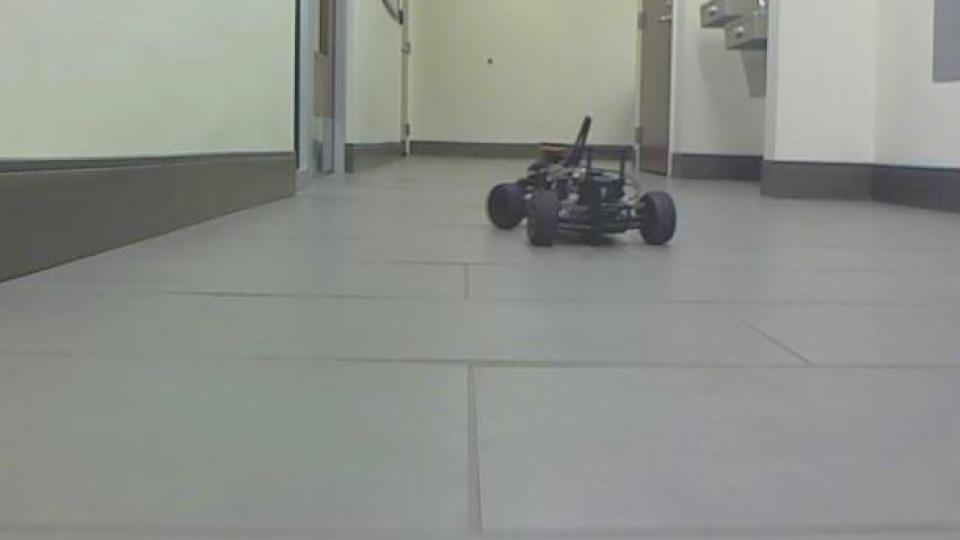car: (485, 113, 680, 251)
